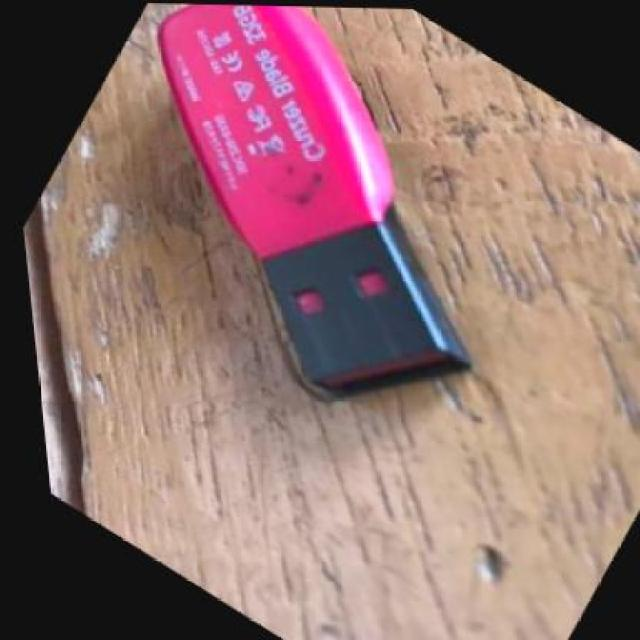Flashdisk: (2, 0, 589, 465)
